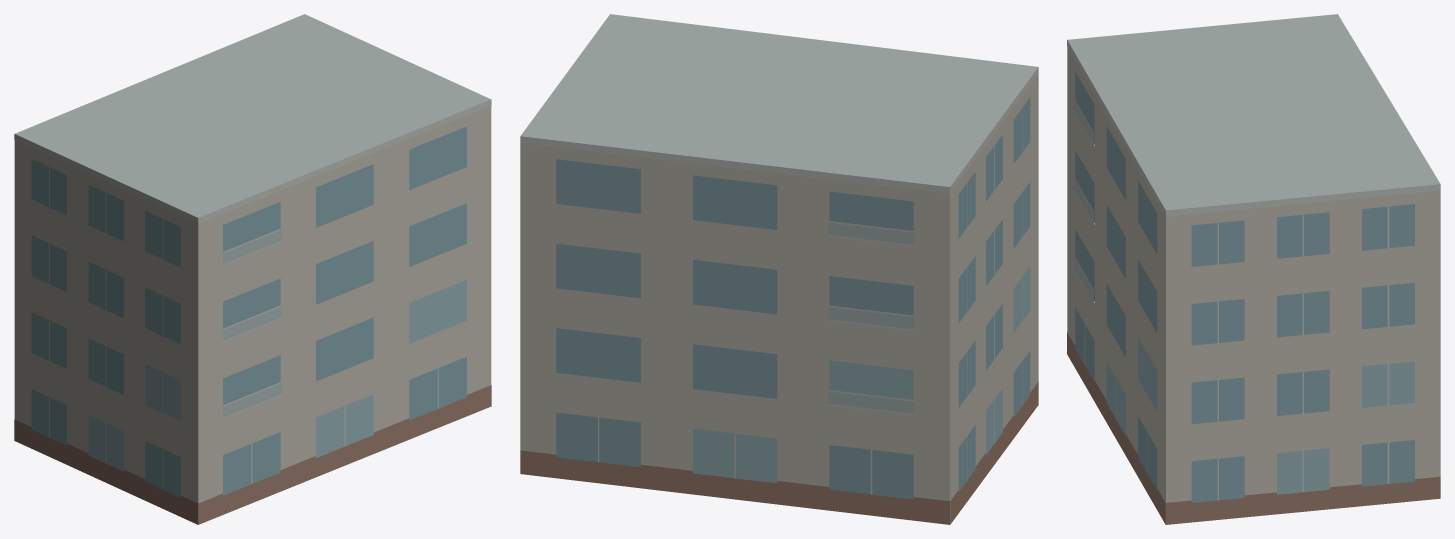
File: survey-upis-32751860.glb
The picture shows the model from 3 angles, left to right: view 1: azimuth 30°, elevation 25°; view 2: azimuth 150°, elevation 25°; view 3: azimuth 270°, elevation 25°; orthographic projection. The views are drawn at different scales.
Visible parts, largest first — view 1: survey-upis-32751860.tmp; view 2: survey-upis-32751860.tmp; view 3: survey-upis-32751860.tmp.
Part boxes in pixels (box(x1,y1,x2,y2)): survey-upis-32751860.tmp: box(14, 14, 491, 524); survey-upis-32751860.tmp: box(520, 14, 1038, 524); survey-upis-32751860.tmp: box(1067, 14, 1440, 524).
Size of the model in its own units: 16.35 by 12.2 by 13.14.
